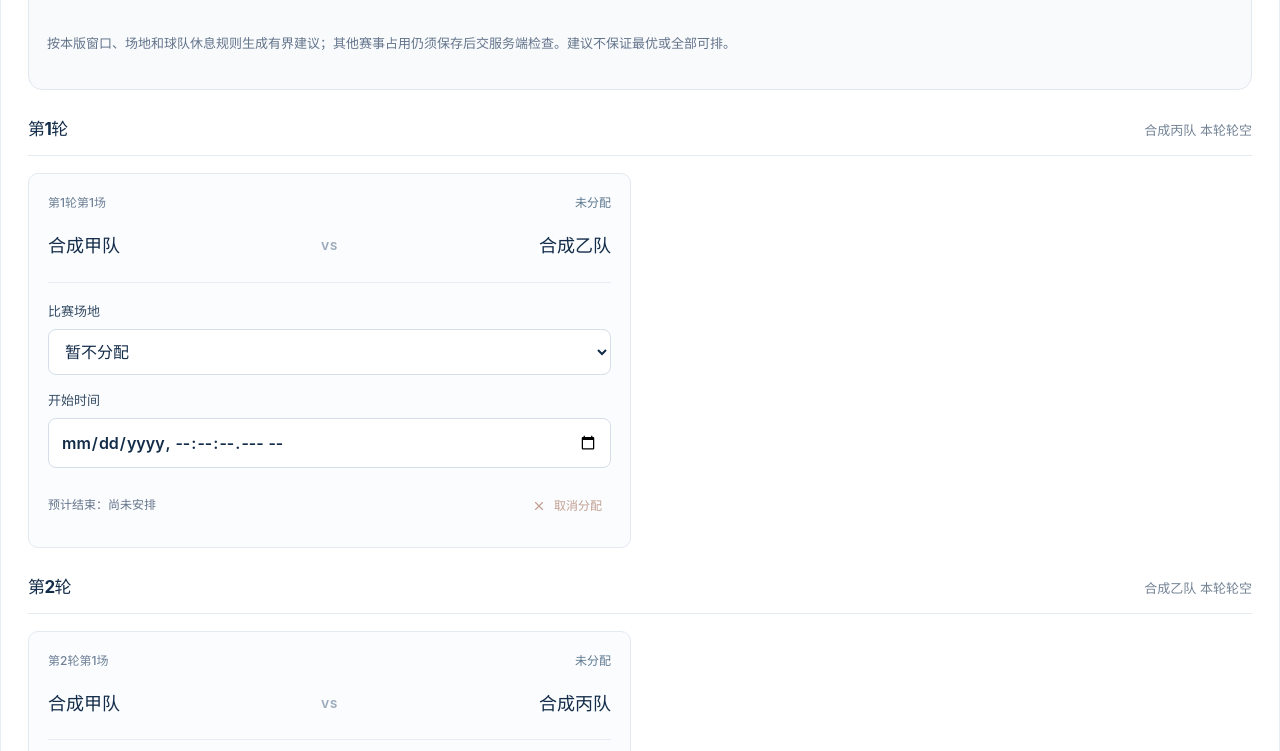
Test: 排时建议与原保存发布流程 › 保留已有未保存分配，放弃预览不改变手工输入，采用也不覆盖它
(page scrolled)
Select "合成共享球场" in the dropdown named "第1轮第1场 场地" at (330, 352), box 48,329 -> 611,375
(page scrolled)
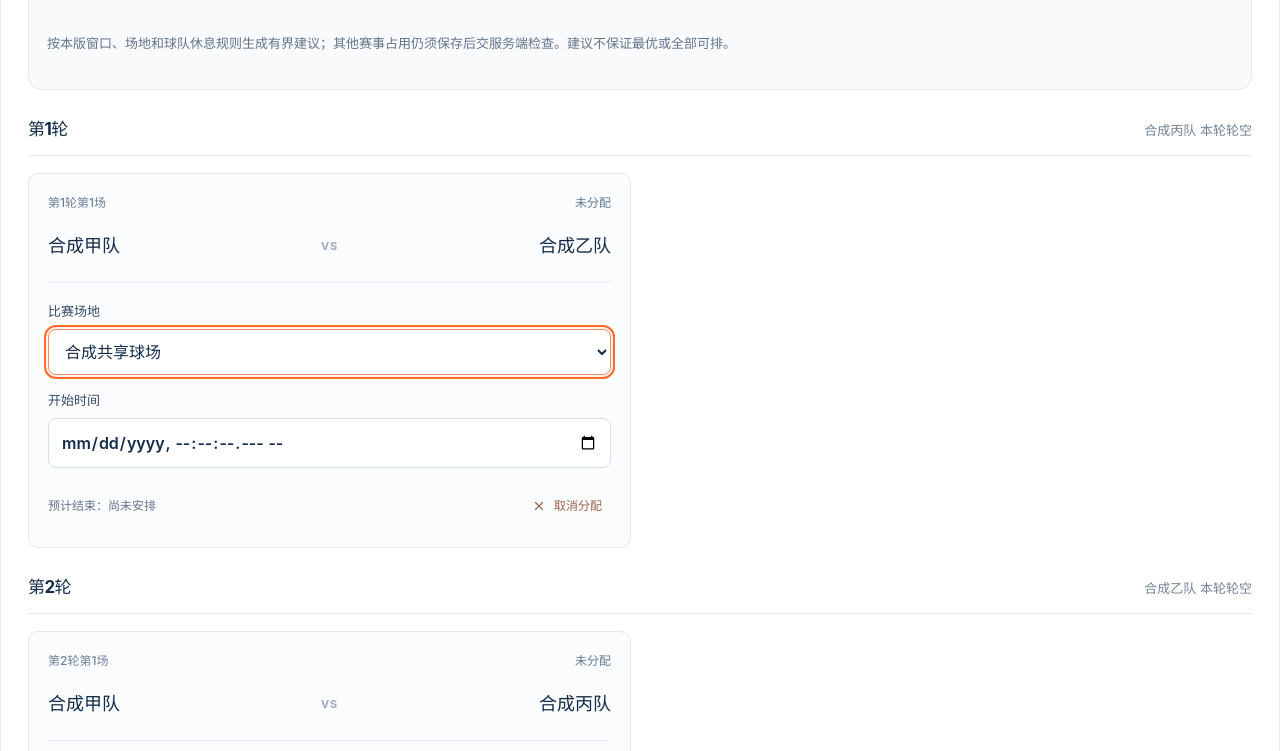
Type "2026-12-01T11:00" into the field named "第1轮第1场 开始时间".
click(330, 443); type("2026-12-01T11:00")  # box 48,418 -> 611,468
(page scrolled)
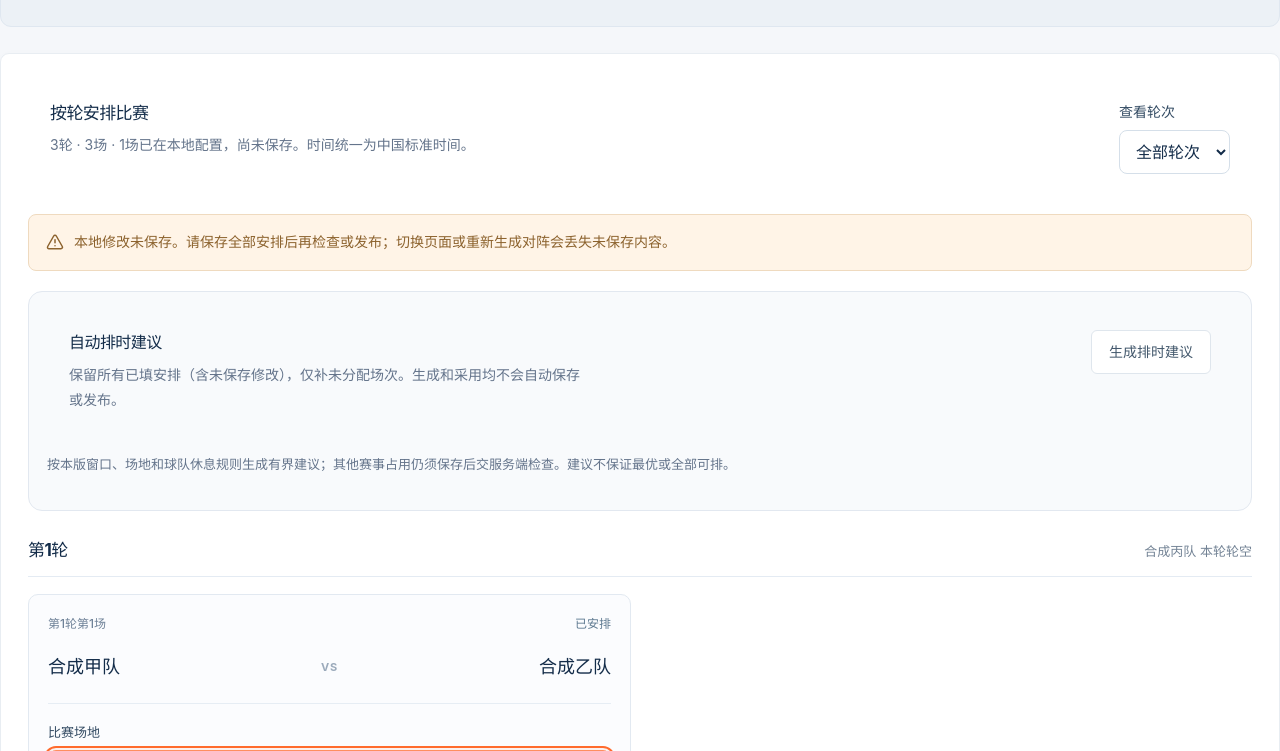
Click the button "生成排时建议".
click(1151, 352)  # box 1091,330 -> 1211,374
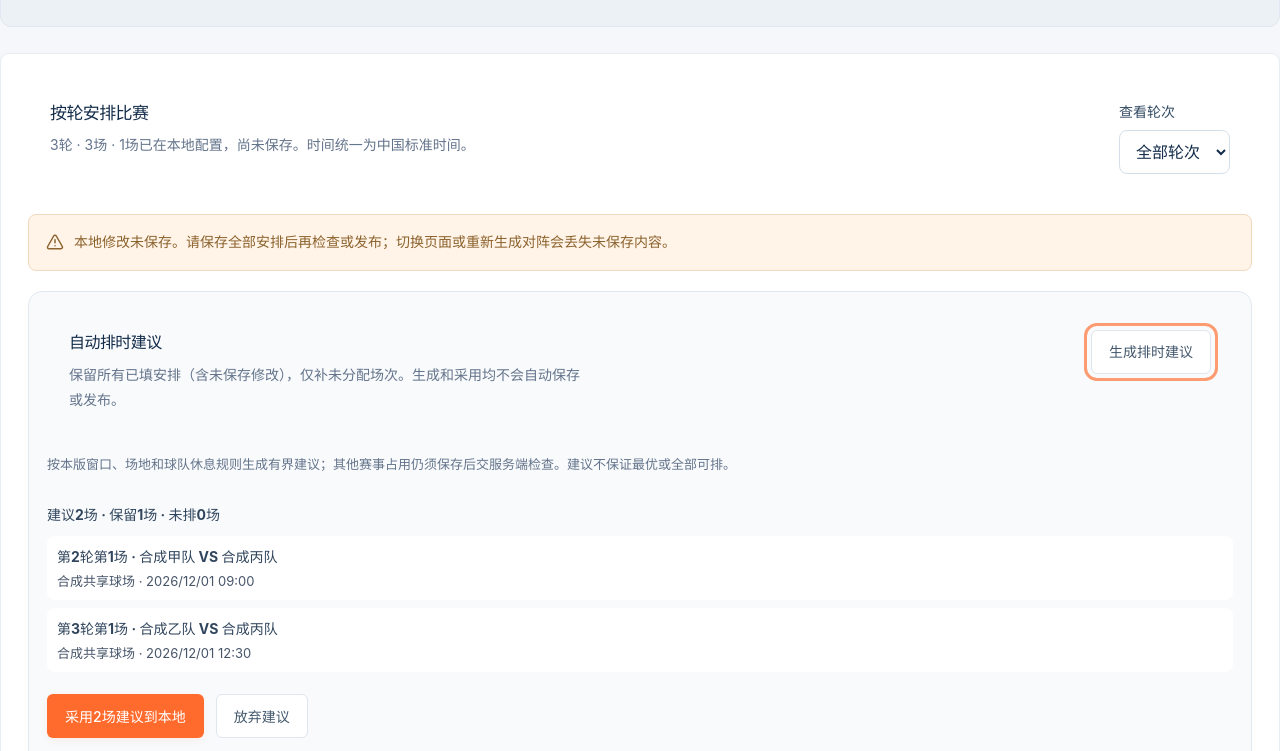
Click the button "放弃建议".
click(262, 716)  # box 216,694 -> 308,738
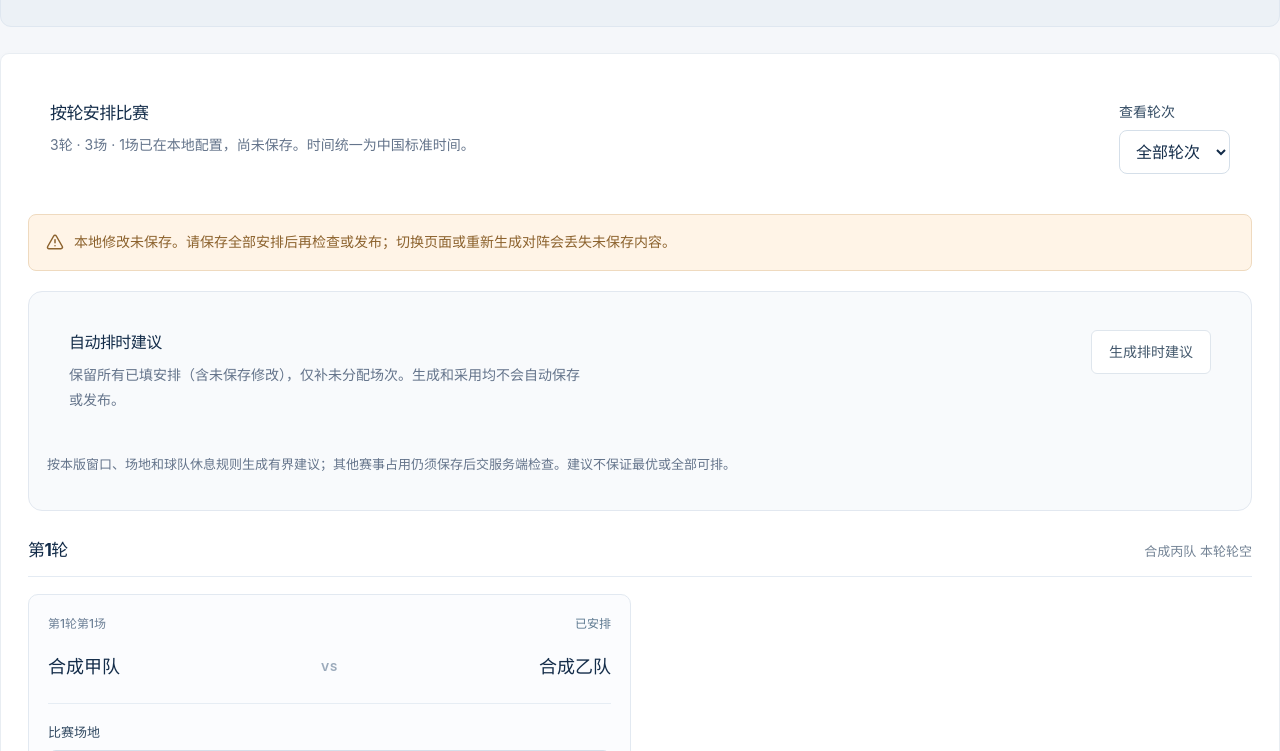
Click the button "生成排时建议".
click(1151, 352)  # box 1091,330 -> 1211,374
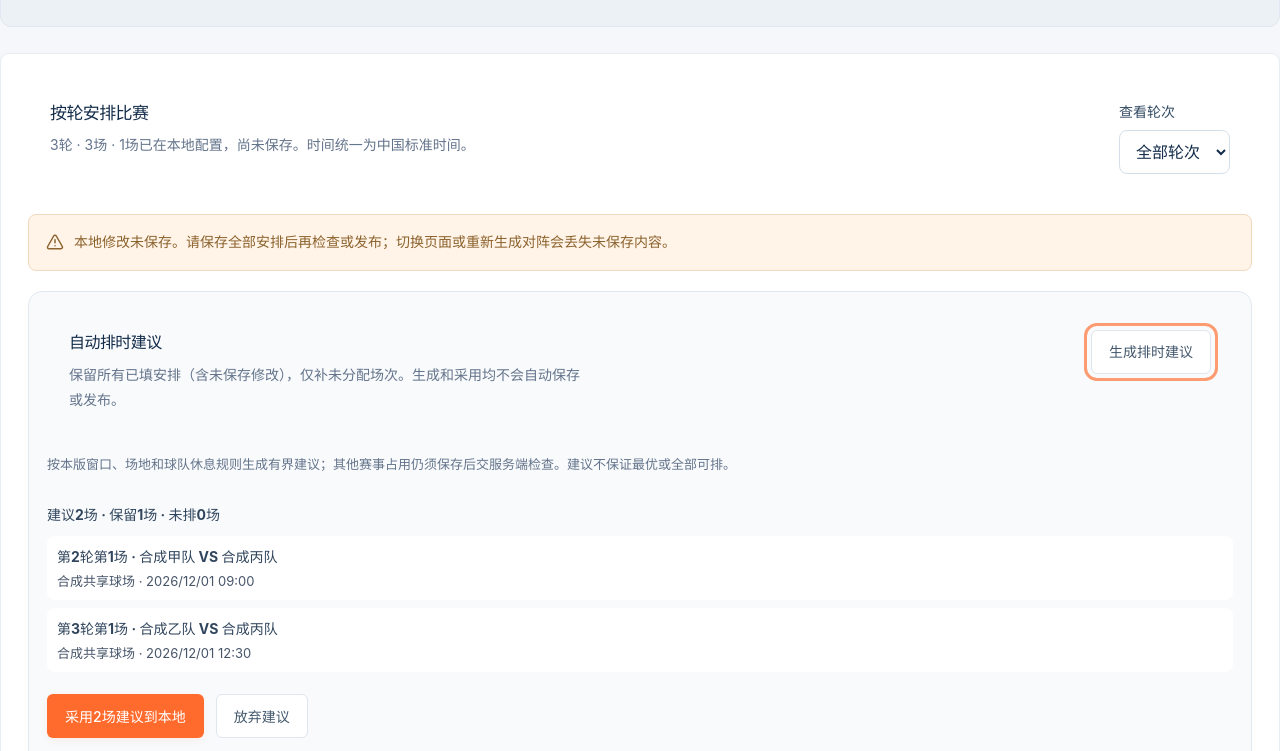
Click the button "采用2场建议到本地".
click(125, 716)  # box 47,694 -> 204,738
(page scrolled)
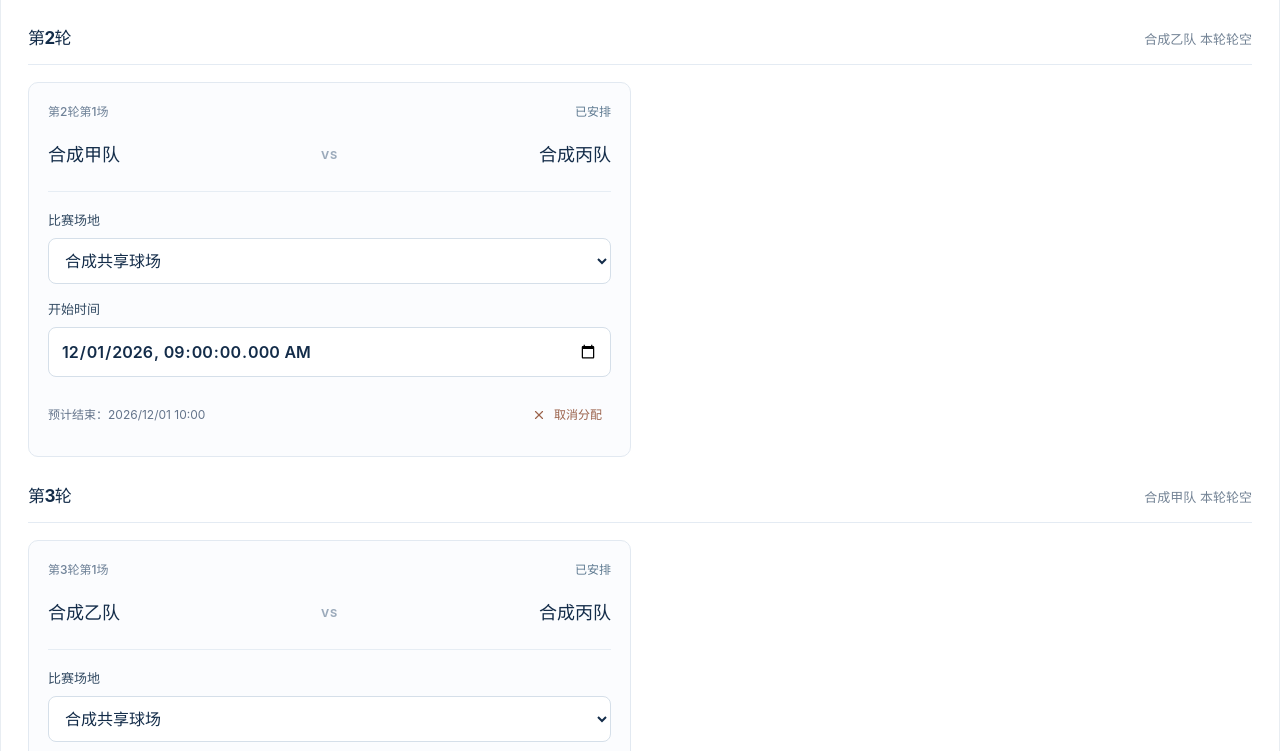
Check: the field named "第2轮第1场 开始时间" holds "2026-12-01T09:00", box 48,327 -> 611,377
